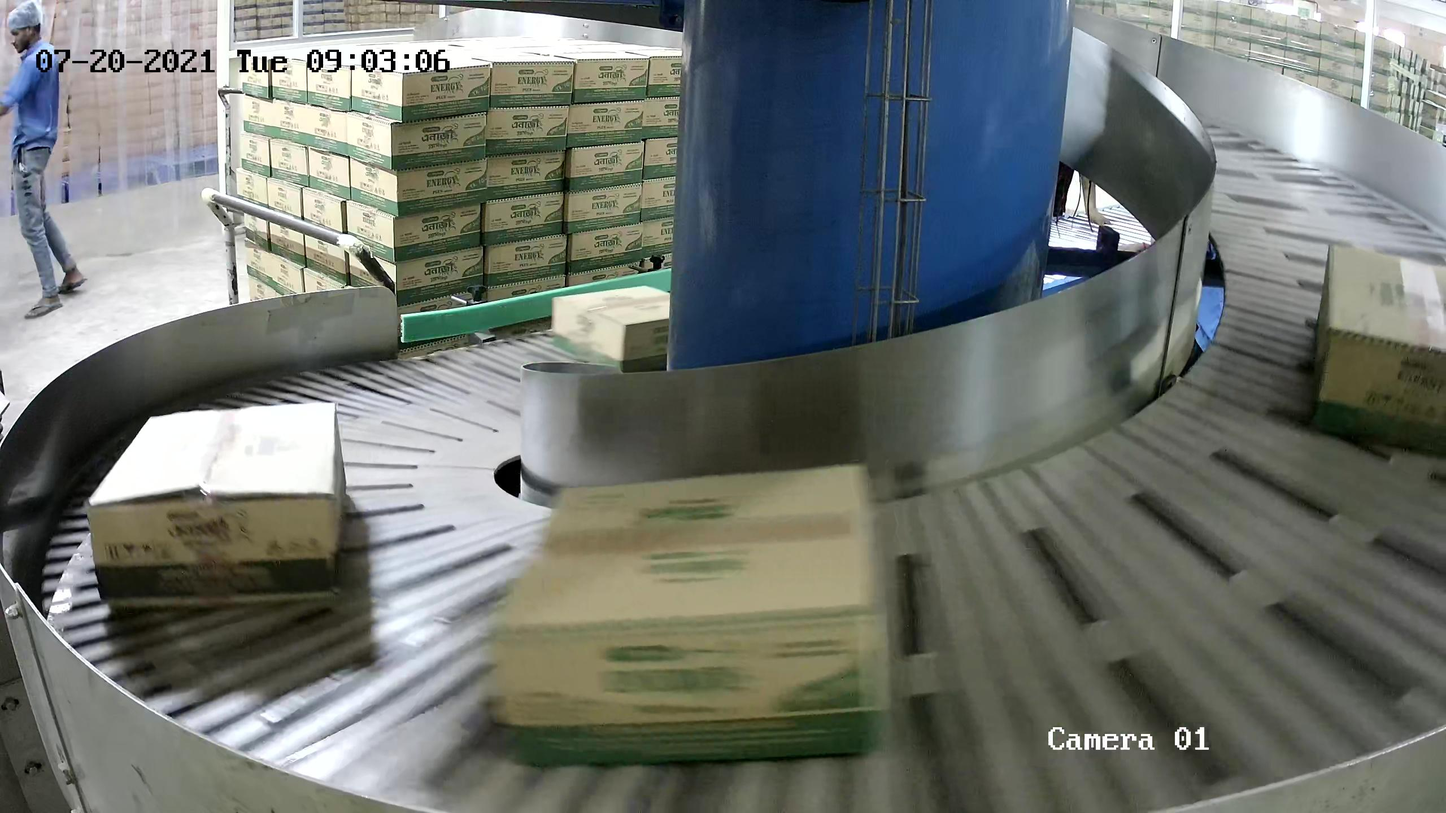Box: (485, 461, 895, 771), (83, 399, 353, 609), (1304, 233, 1446, 461), (551, 284, 693, 376)
